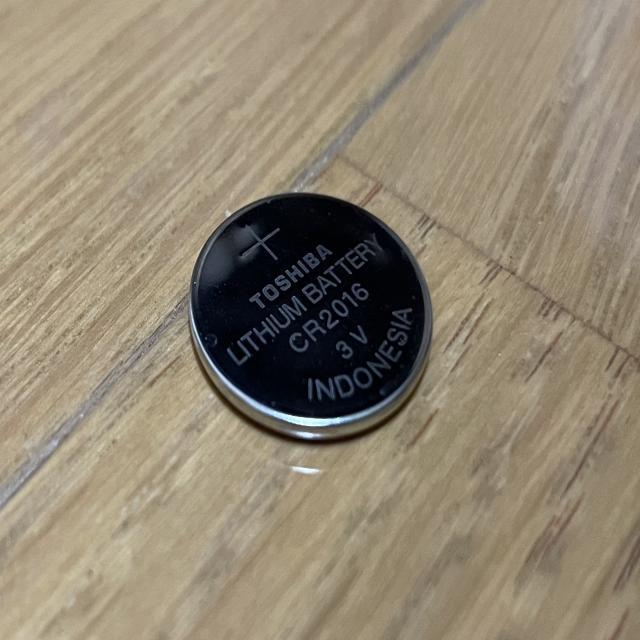COIN: (185, 186, 434, 448)
